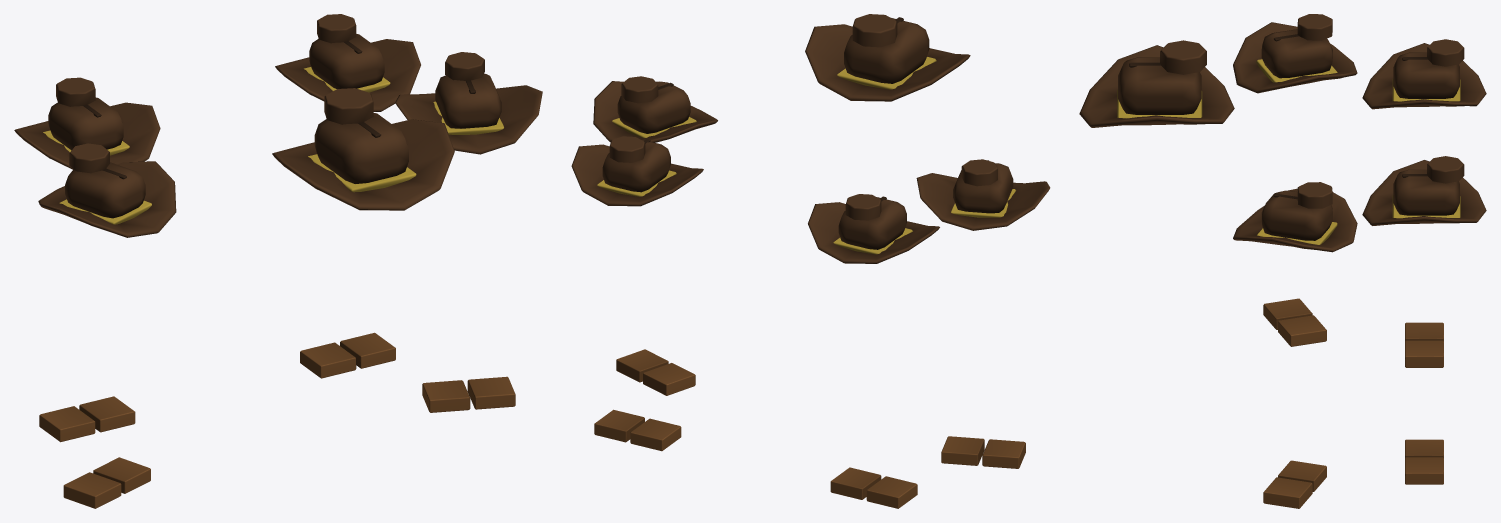
File: suds-posse-lod1.glb
3 views of the same model, side by side, from view 1: azimuth 30°, elevation 25°; view 2: azimuth 150°, elevation 25°; view 3: azimuth 270°, elevation 25° (orthographic). The views are drawn at different scales.
Visible parts, largest first — view 1: cap_hat, att3_hat, att2_hat, att0_hat, att1_hat, att3_leg_r_trim, att1_leg_r_trim, att0_leg_r_trim, att2_leg_l_trim, att2_leg_r_trim, att1_leg_l_trim, att0_leg_l_trim (+1 smaller); view 2: cap_hat, att0_hat, att1_hat, att3_hat, att2_hat, att2_leg_r_trim, att1_leg_r_trim, att0_leg_r_trim, att3_leg_l_trim, att3_leg_r_trim, att1_leg_l_trim, att0_leg_l_trim (+1 smaller); view 3: cap_hat, att3_hat, att0_hat, att1_hat, att2_hat, att2_leg_l_trim, att3_leg_l_trim, att0_leg_l_trim, att1_leg_l_trim, att3_leg_r_trim, att2_leg_r_trim, att0_leg_r_trim (+1 smaller).
Part boxes in pixels (<box>): cap_hat: <box>272,88,454,210</box>; att3_hat: <box>38,143,176,237</box>; att2_hat: <box>395,52,542,154</box>; att0_hat: <box>275,14,420,111</box>; att1_hat: <box>14,77,160,169</box>; att3_leg_r_trim: <box>63,472,121,508</box>; att1_leg_r_trim: <box>39,406,95,442</box>; att0_leg_r_trim: <box>300,342,356,378</box>; att2_leg_l_trim: <box>467,376,515,409</box>; att2_leg_r_trim: <box>422,380,470,412</box>; att1_leg_l_trim: <box>79,396,135,432</box>; att0_leg_l_trim: <box>340,332,395,368</box>; cap_hat: <box>805,14,970,101</box>; att0_hat: <box>571,136,703,206</box>; att1_hat: <box>808,194,939,263</box>; att3_hat: <box>916,159,1050,230</box>; att2_hat: <box>593,76,717,142</box>; att2_leg_r_trim: <box>643,363,695,395</box>; att1_leg_r_trim: <box>866,476,917,508</box>; att0_leg_r_trim: <box>630,418,681,451</box>; att3_leg_l_trim: <box>941,436,984,465</box>; att3_leg_r_trim: <box>982,439,1025,468</box>; att1_leg_l_trim: <box>830,467,881,499</box>; att0_leg_l_trim: <box>594,409,644,442</box>; cap_hat: <box>1079,40,1234,127</box>; att3_hat: <box>1233,14,1357,93</box>; att0_hat: <box>1362,156,1486,225</box>; att1_hat: <box>1362,39,1486,109</box>; att2_hat: <box>1233,182,1357,252</box>; att2_leg_l_trim: <box>1263,477,1312,508</box>; att3_leg_l_trim: <box>1278,315,1326,346</box>; att0_leg_l_trim: <box>1405,457,1443,484</box>; att1_leg_l_trim: <box>1405,340,1443,367</box>; att3_leg_r_trim: <box>1263,298,1312,329</box>; att2_leg_r_trim: <box>1278,460,1326,491</box>; att0_leg_r_trim: <box>1405,439,1443,457</box>.
Bounding box in the file's own units: 2.32 × 1.78 × 1.83.
